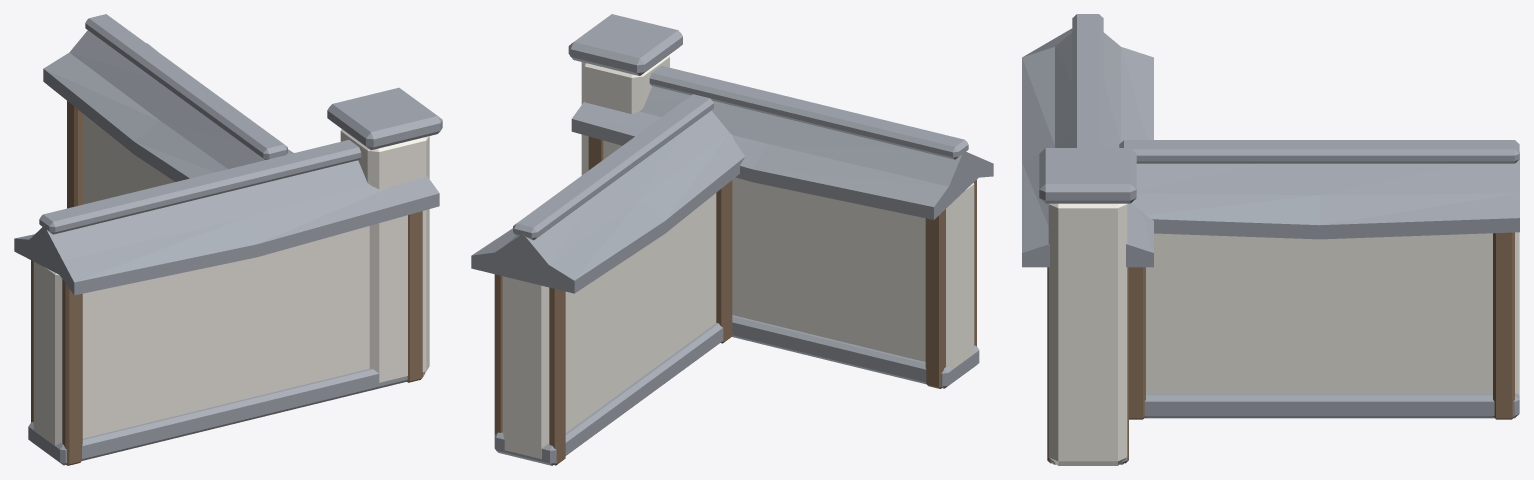
Rendered from feudal-japan-castle-town-wall-walk-corner-d6932b97__26579.glb.
The picture shows the model from 3 angles, left to right: view 1: azimuth 30°, elevation 25°; view 2: azimuth 150°, elevation 25°; view 3: azimuth 270°, elevation 25°; orthographic projection. The views are drawn at different scales.
Visible parts, largest first — view 1: wall-walk-corner; view 2: wall-walk-corner; view 3: wall-walk-corner.
Part boxes in pixels (x1,y1,x2,y2): wall-walk-corner: (14, 14, 442, 465); wall-walk-corner: (471, 14, 993, 465); wall-walk-corner: (1022, 14, 1519, 465).
Size of the model in its own units: 3.06 by 2.02 by 3.17.
